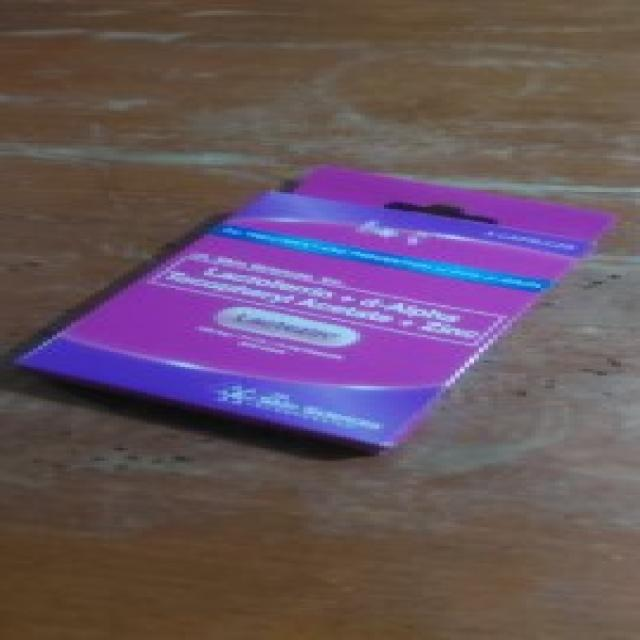Cacat: (0, 169, 623, 455)
